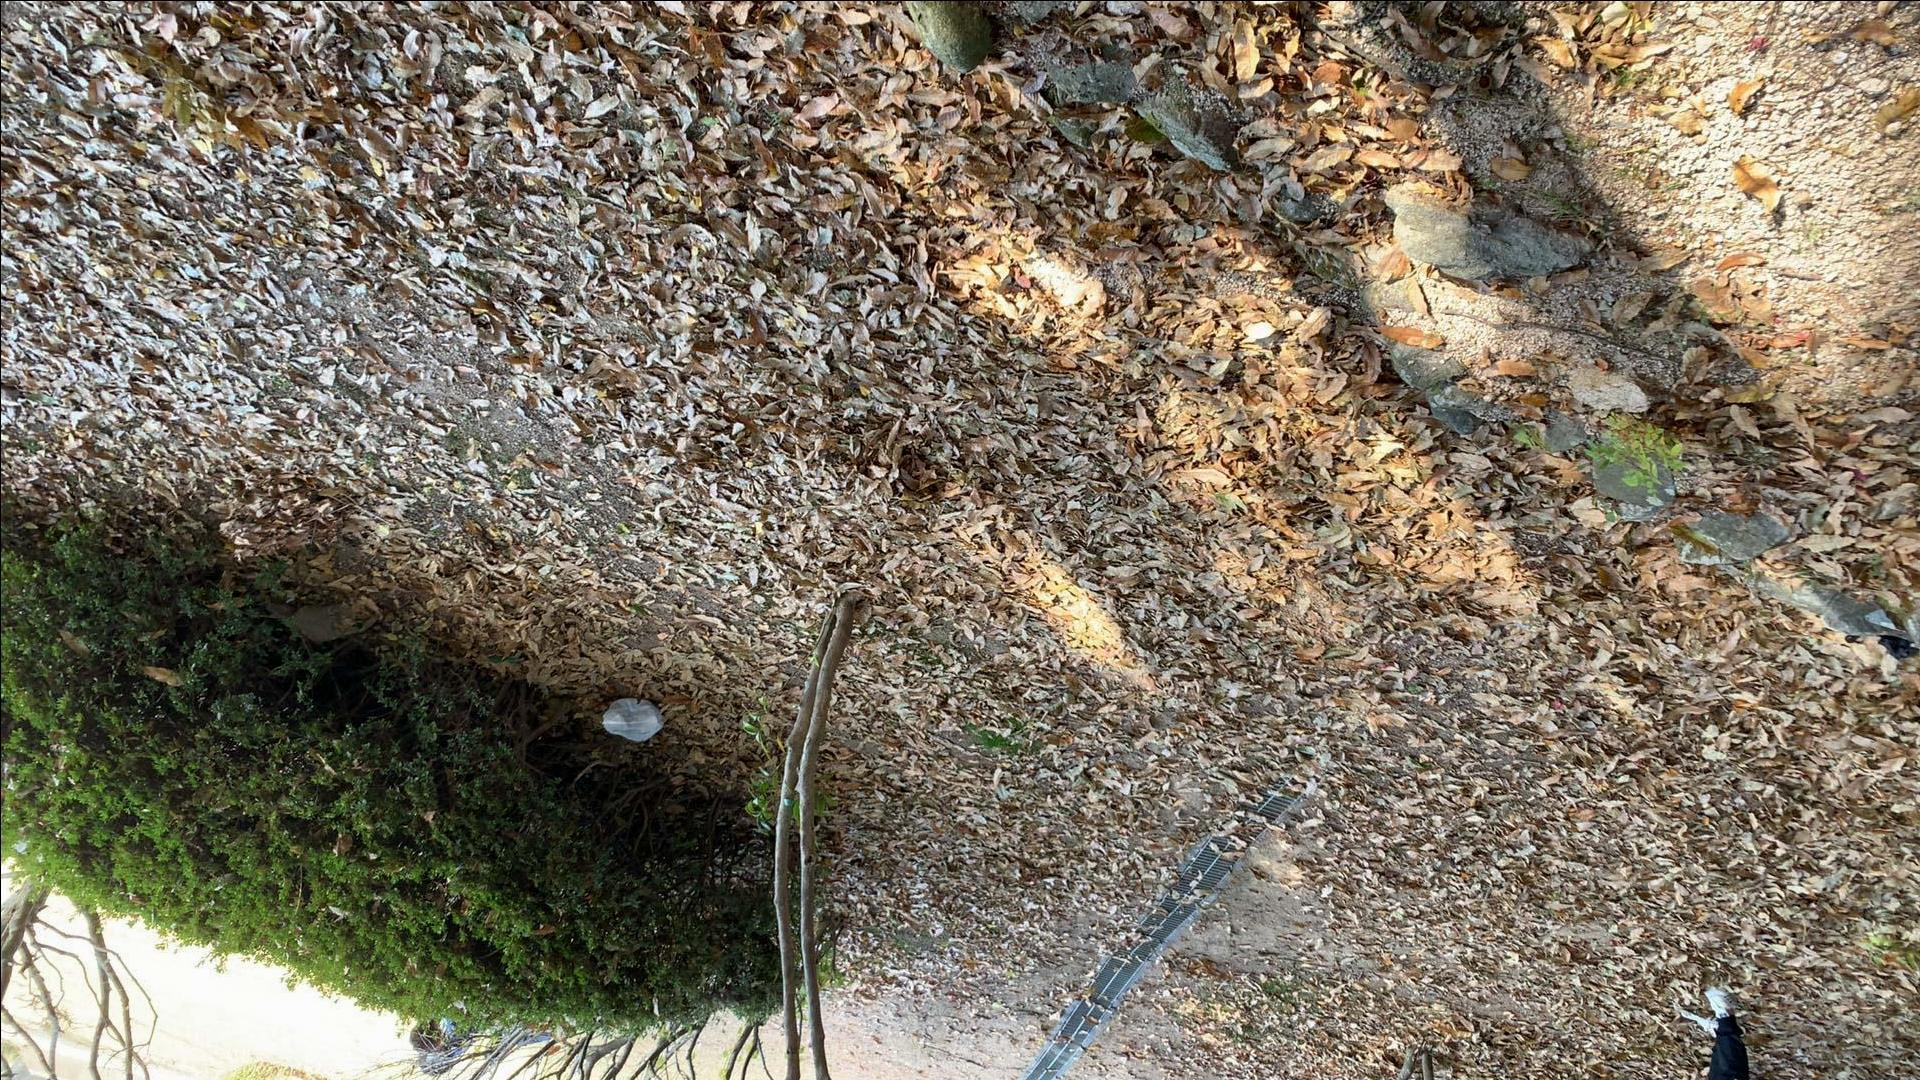white_bag: (597, 694, 669, 745)
